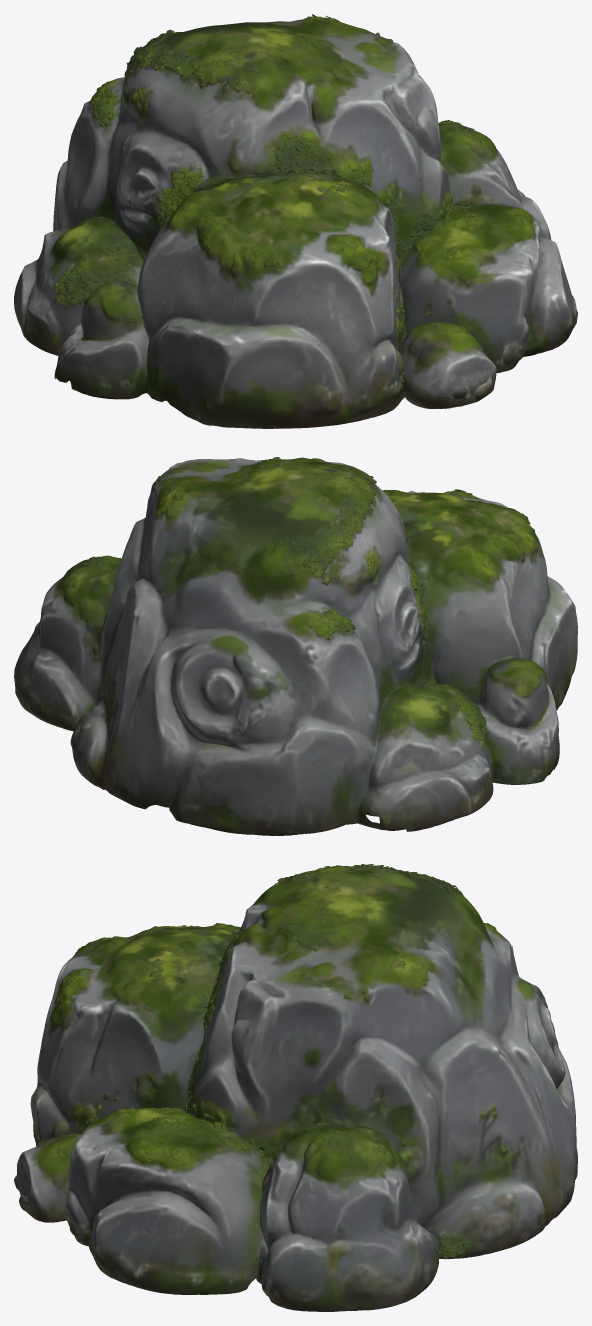
File: rock_group.glb
3 renders of one model, top to bottom at view 1: azimuth 30°, elevation 25°; view 2: azimuth 150°, elevation 25°; view 3: azimuth 270°, elevation 25°, orthographic. The views are drawn at different scales.
Visible parts, largest first — view 1: world; view 2: world; view 3: world.
Part boxes in pixels (<box>): world: <box>14,14,577,428</box>; world: <box>14,457,577,835</box>; world: <box>14,864,577,1311</box>.
Size of the model in its own units: 0.9986 by 0.5194 by 0.9248.
1 material, 1 textured.
